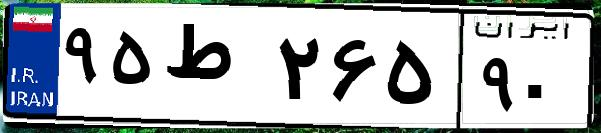0: (525, 38, 570, 115)
2: (270, 28, 330, 110)
5: (385, 28, 445, 110), (110, 28, 158, 98)
6: (330, 28, 385, 110)
9: (57, 26, 110, 100), (475, 38, 525, 113)
ط: (158, 20, 270, 120)
